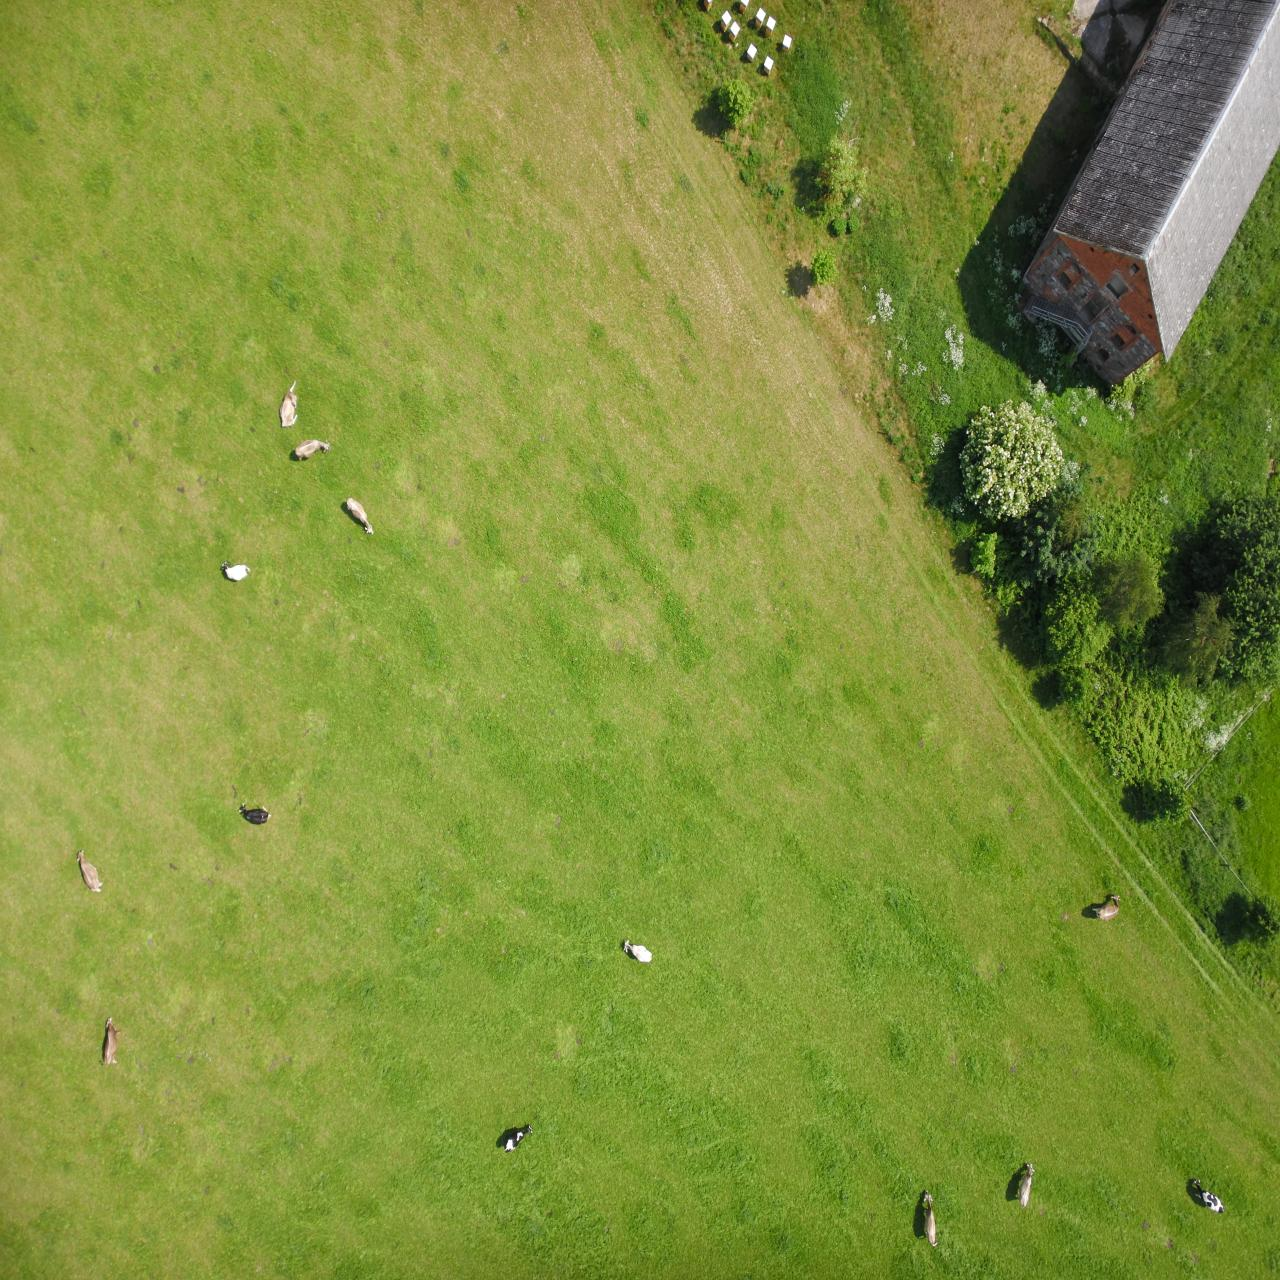cow: (1189, 1165, 1223, 1219), (232, 795, 275, 837), (73, 850, 107, 899), (340, 495, 376, 539), (98, 1013, 123, 1077), (292, 433, 331, 468), (275, 380, 301, 431), (501, 1119, 536, 1157), (1083, 893, 1121, 928), (920, 1186, 940, 1248), (619, 939, 658, 969), (1016, 1159, 1036, 1211), (219, 560, 250, 590)
